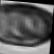correct: (0, 1, 54, 51)
